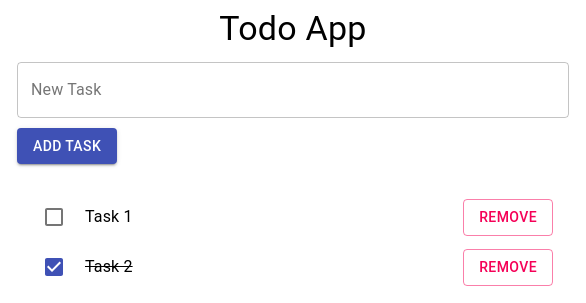
Test: TodoApp › removes a task
Check: the text "Task 1" is shown, box [85,205,133,229]
Click the 1st button with test id "remove-button" at (508, 217), box [463,199,553,236]
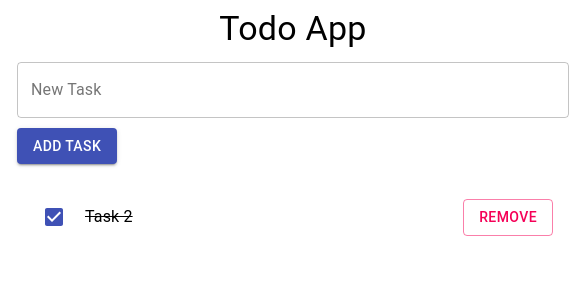
Check: the button "Task 1" is gone
